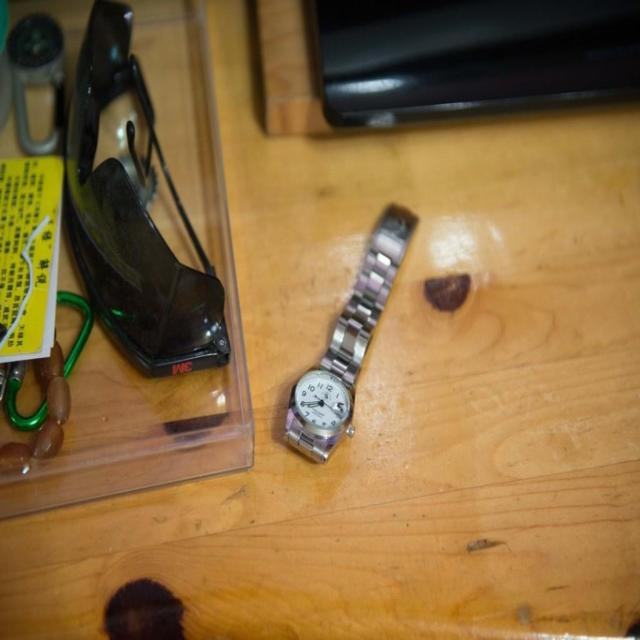Wrist watch: (283, 203, 418, 460)
